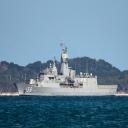Fragata: (14, 36, 119, 98)
